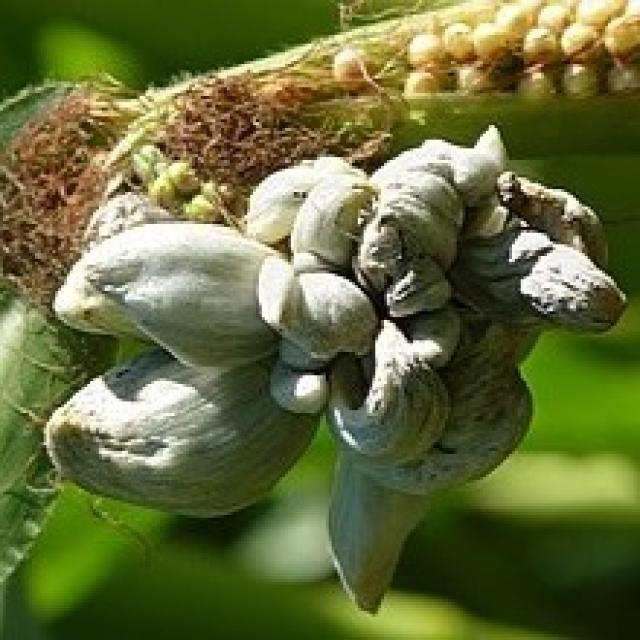Leaf_Scald: (30, 105, 625, 616)
